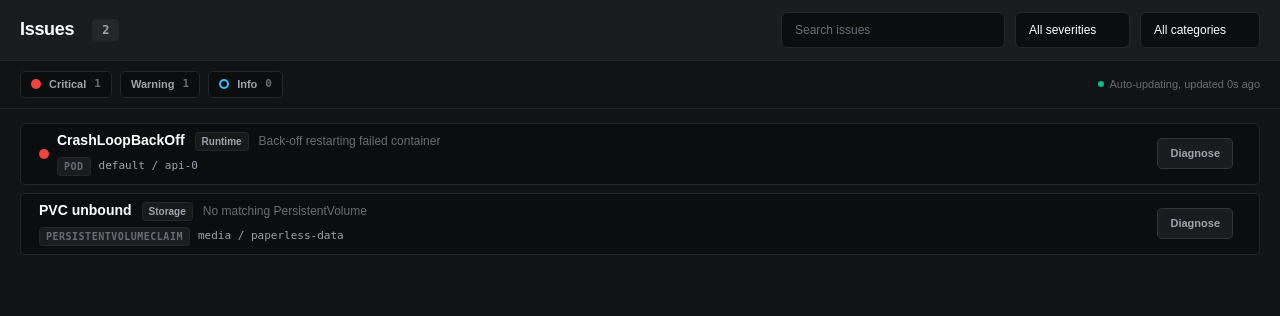
Test case: IssuesPanel › shows a distinct empty state when the filters hide everything
Step 1. Type "nothing-matches-this" into the field labelled "Search issues" → (893, 30), box left=795, top=22, right=991, bottom=38
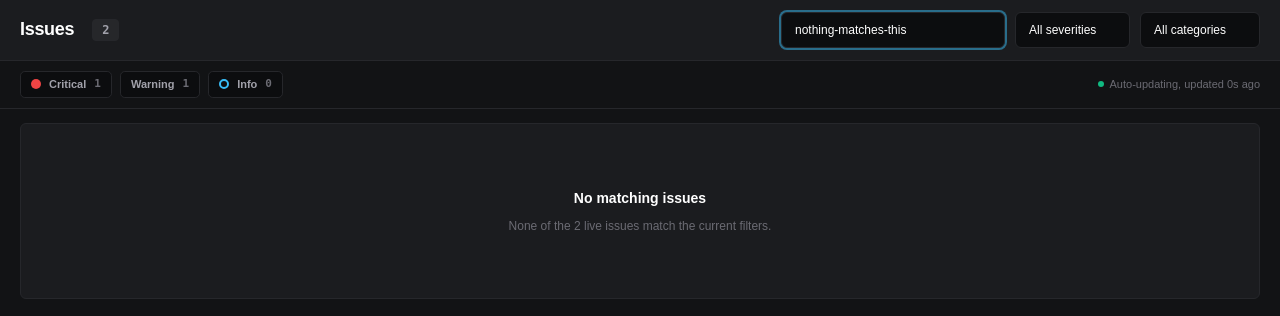
expect the text "No matching issues" is shown: met, box left=574, top=188, right=706, bottom=208
